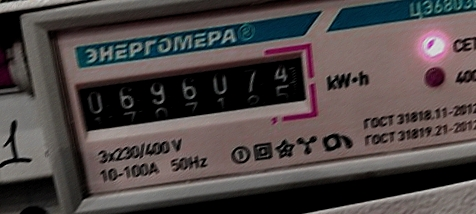0: (84, 89, 106, 116), (209, 69, 230, 97)
4: (271, 60, 289, 84)
5: (274, 83, 292, 105)
6: (178, 74, 199, 103), (115, 84, 137, 111)
7: (241, 66, 260, 94)
9: (147, 79, 166, 107)
screen: (63, 41, 325, 153)
